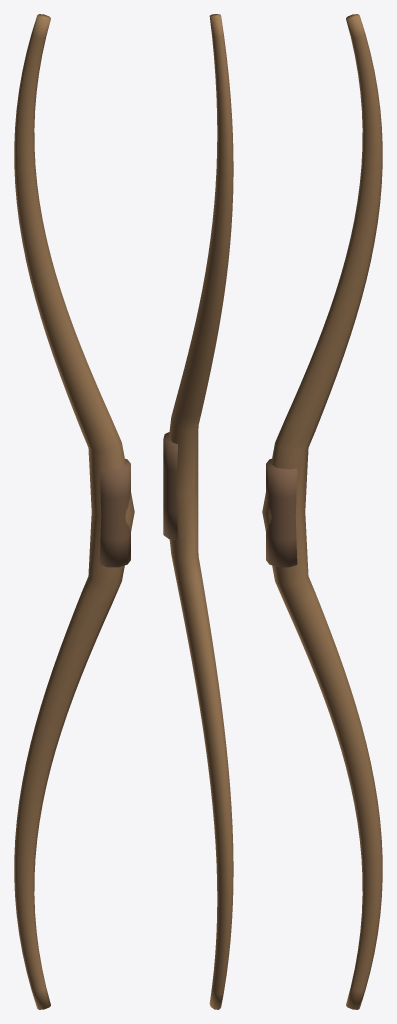
The model's file is Archer_Bow.fbx.
The picture shows the model from 3 angles, left to right: view 1: azimuth 90°, elevation 25°; view 2: azimuth 210°, elevation 25°; view 3: azimuth 270°, elevation 25°; orthographic projection.
Visible parts, largest first — view 1: Archer_Bow; view 2: Archer_Bow; view 3: Archer_Bow.
Boxes of the visible parts, x1,y1,x2,y2 form: Archer_Bow: [14, 14, 134, 1009]; Archer_Bow: [163, 14, 233, 1009]; Archer_Bow: [262, 14, 382, 1009].
Bounding box in the file's own units: 0.0447 × 1.44 × 0.1587.
